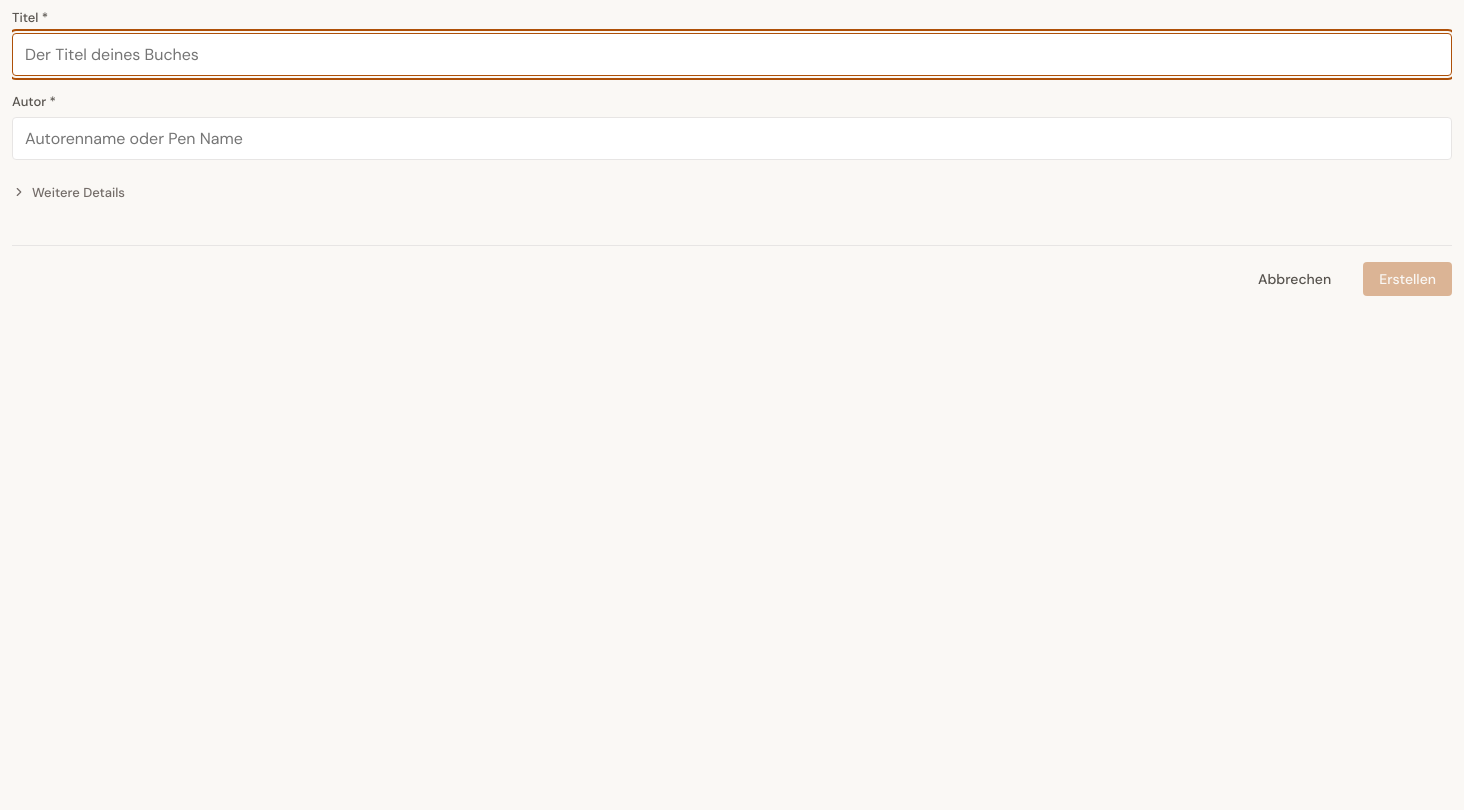
Test: CreateBookForm › expanding details shows genre and subtitle fields
This screenshot has width=1464, height=810.
Step 1. Click the button "Weitere Details" → (68, 190), box [12, 176, 125, 205]
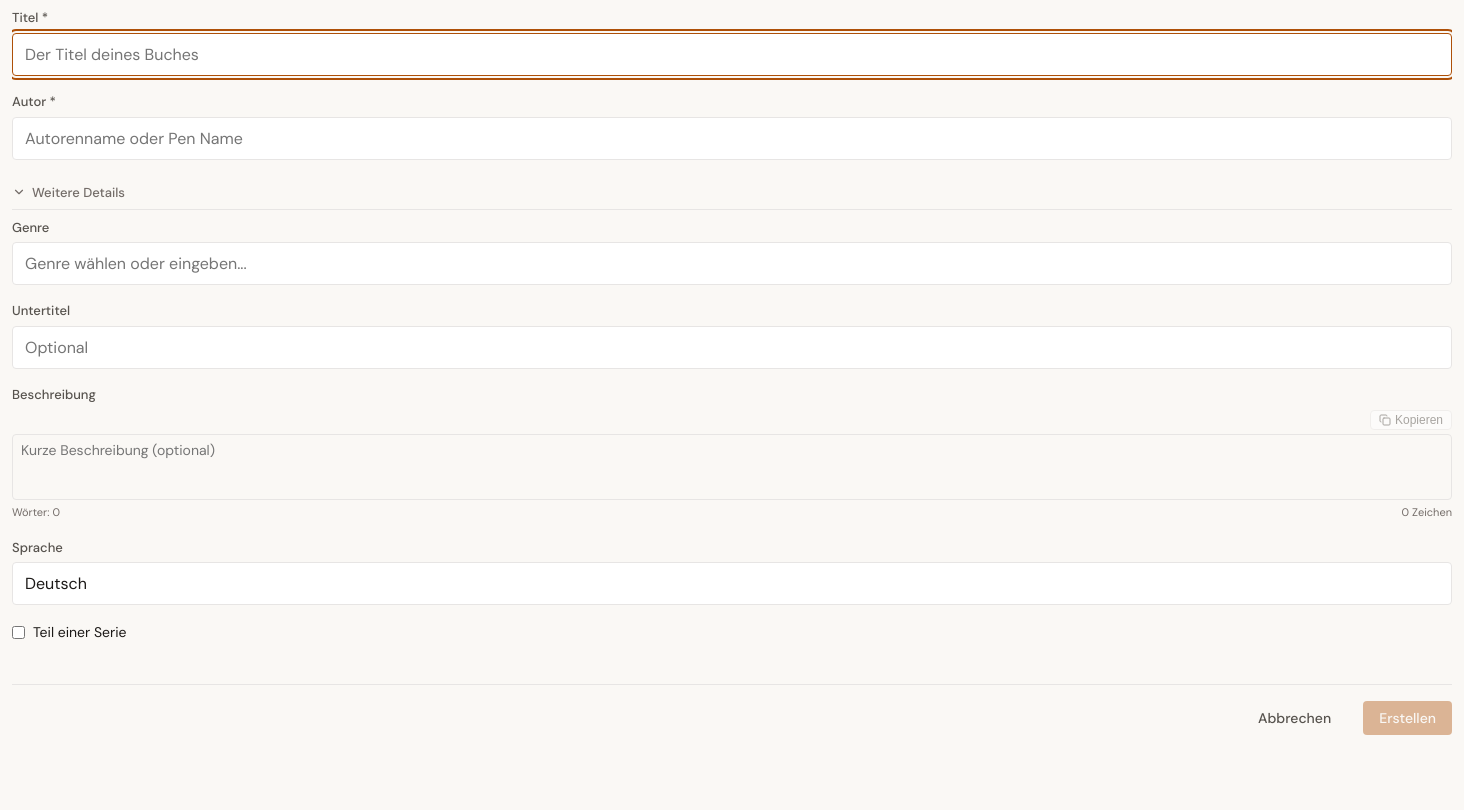
Result: the field with placeholder "Genre wählen oder eingeben..." is shown at [12, 242, 1452, 285]
Result: the field with placeholder "Optional" is shown at [12, 326, 1452, 369]
